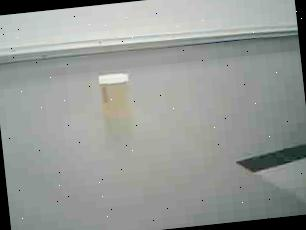Bottle B: (89, 65, 144, 125)
